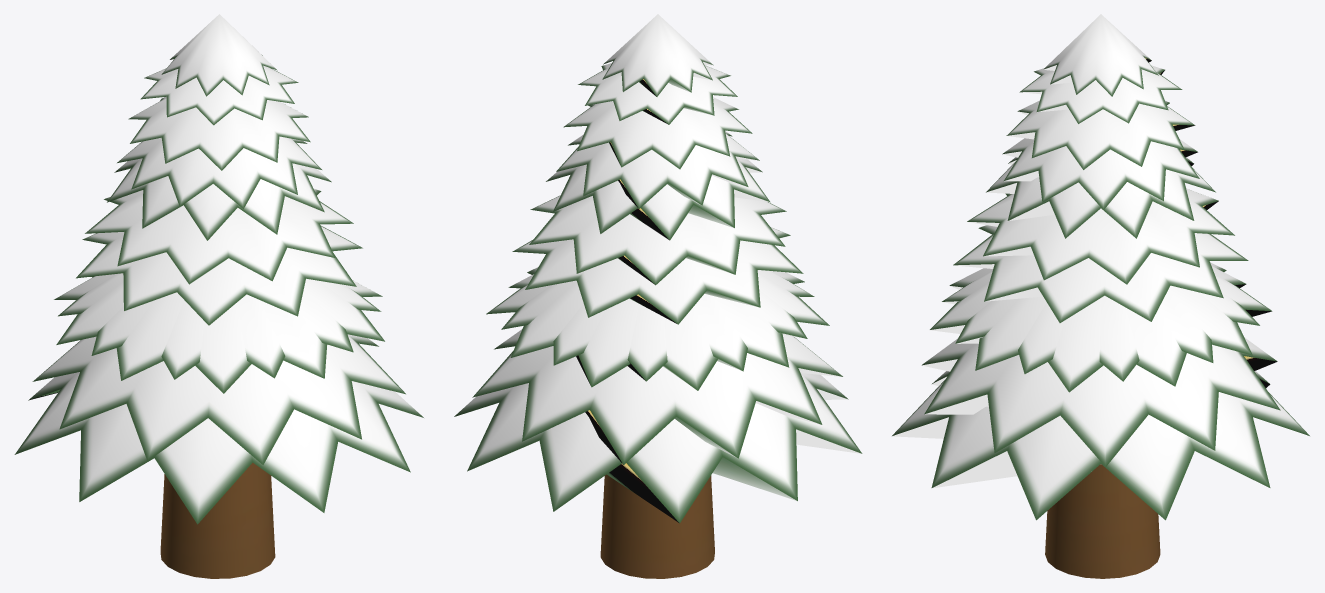
Rendered from snow_tree2.fbx.
The picture shows the model from 3 angles, left to right: view 1: azimuth 30°, elevation 25°; view 2: azimuth 150°, elevation 25°; view 3: azimuth 270°, elevation 25°; orthographic projection.
Parts seen in each view (by area): view 1: polySurface157, polySurface167; view 2: polySurface157, polySurface167; view 3: polySurface157, polySurface167.
Part boxes in pixels (box(x1,y1,x2,y2)): polySurface157: box(14, 14, 423, 524); polySurface167: box(160, 462, 275, 578); polySurface157: box(454, 14, 862, 523); polySurface167: box(600, 474, 714, 578); polySurface157: box(892, 14, 1309, 520); polySurface167: box(1045, 464, 1160, 578).
Bounding box in the file's own units: 0.7679 × 1.15 × 0.8074.
